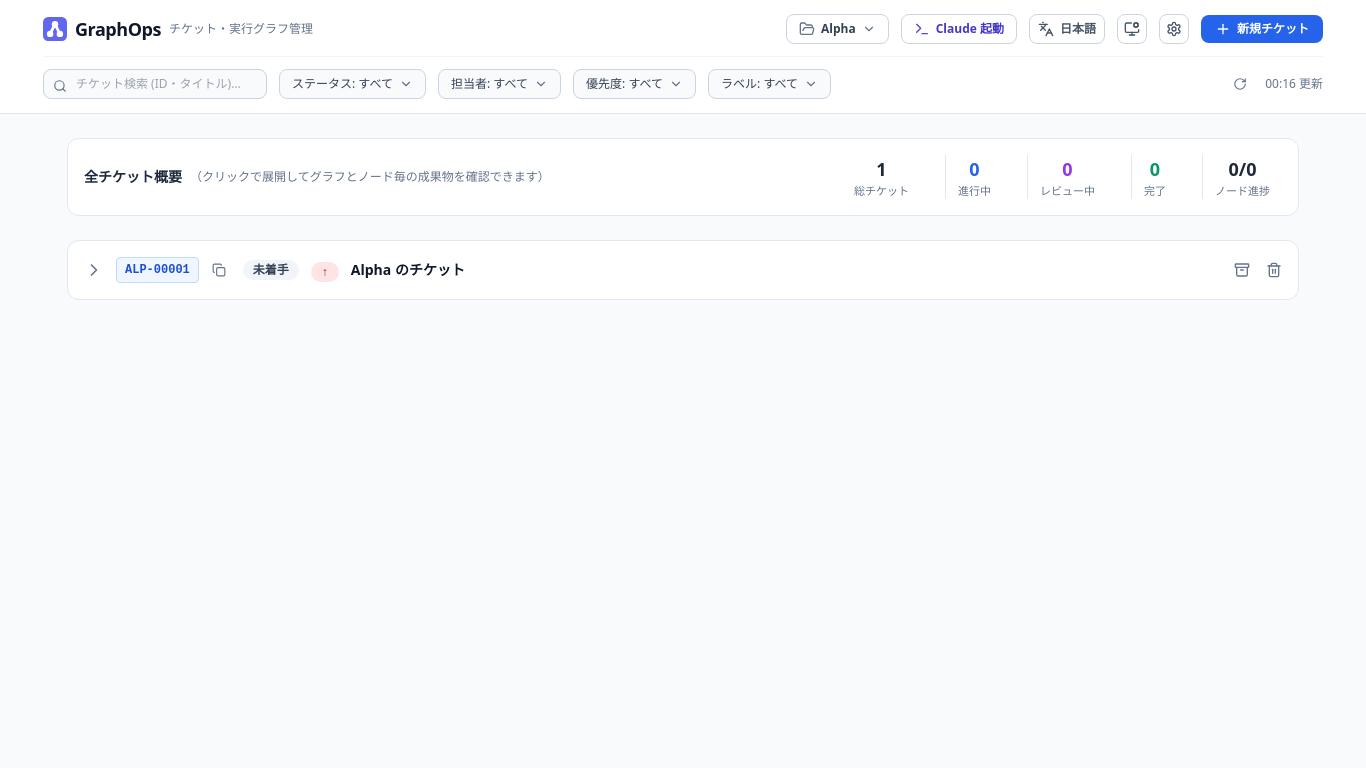
Test: App project scoping › once the current project has resolved › re-points the list and the poll at the project the user switches to
Expected: the text "ALP-00001" is shown, [116,257,199,283]
Click the button "Alpha" at x=837, y=29, box [786,14,889,44]
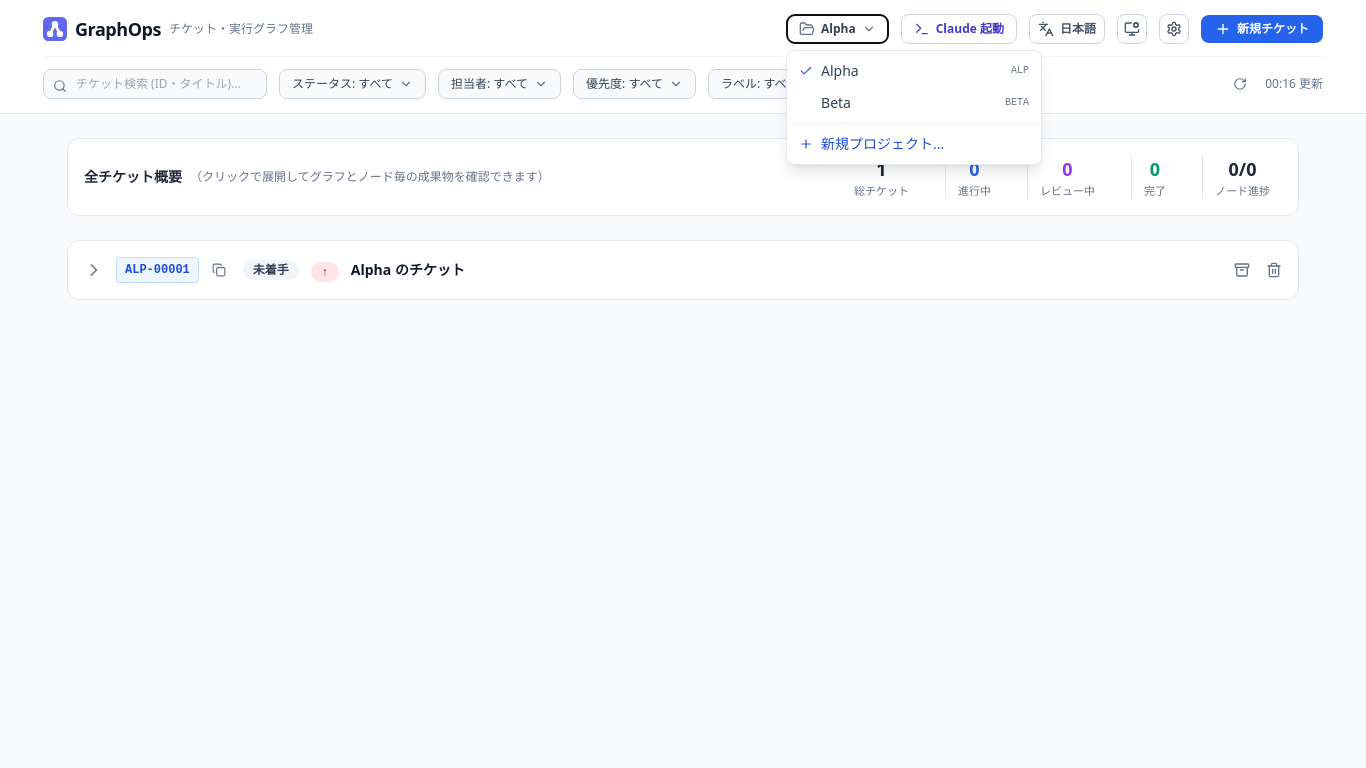
Click the button "Beta BETA" at x=914, y=103, box [787,87,1041,119]
Wait 15000 ms
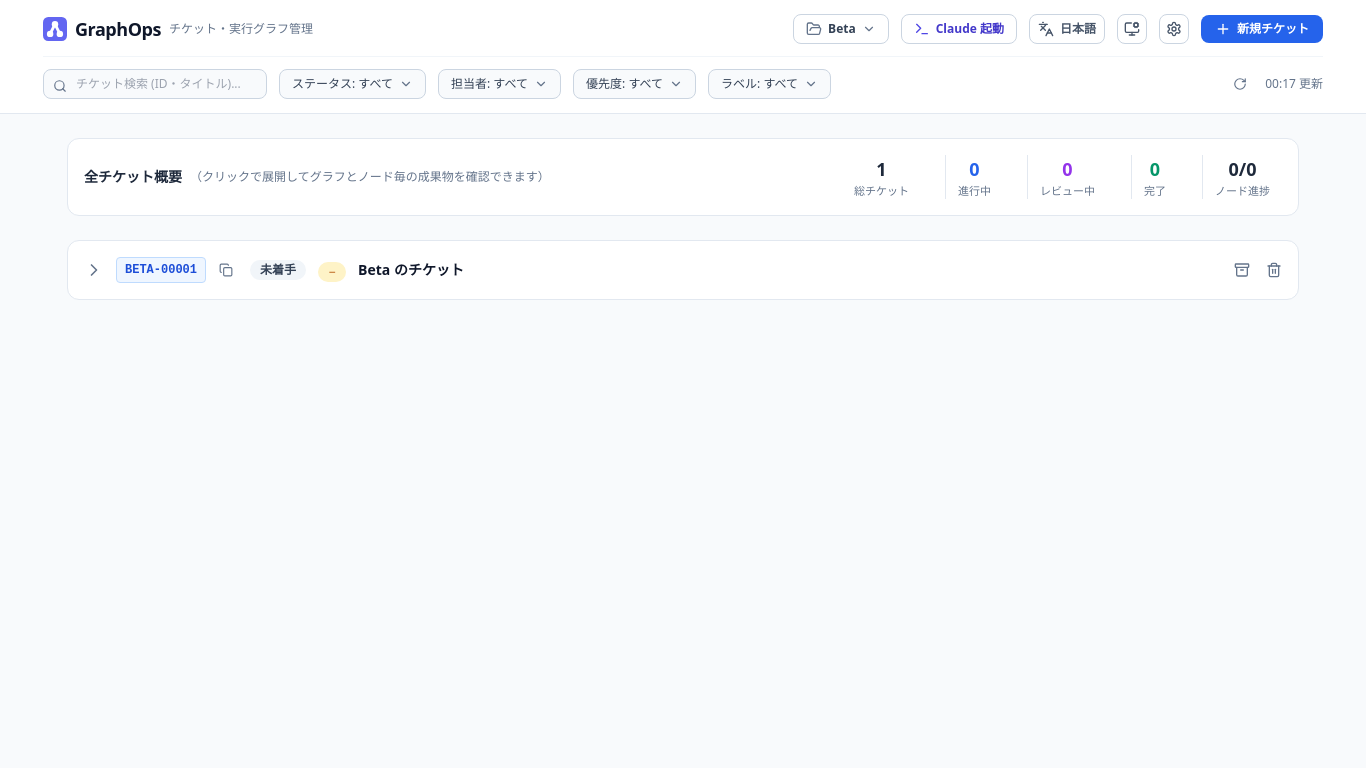
Expected: the text "BETA-00001" is shown, [116,257,206,283]
